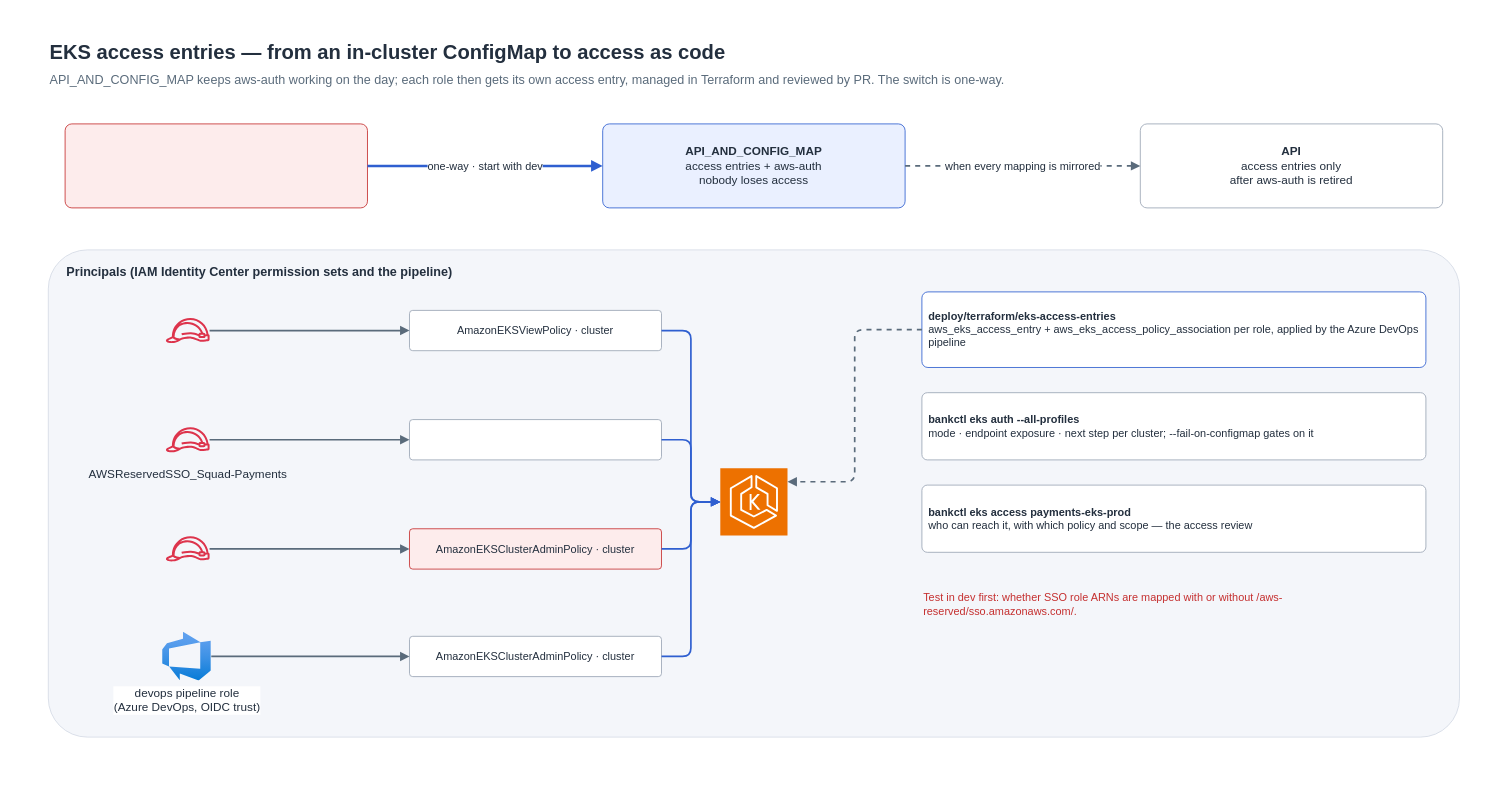
Some shapes in this 1507 by 801 pixel diagram are drawn without their labels. Each missing label, with the centre of its shape:
"AmazonEKSEditPolicy · namespace payments" goes at (x=535, y=439).
"AWSReservedSSO_BreakGlass-Admin" goes at (x=187, y=548).
"AWSReservedSSO_Platform-ReadOnly" goes at (x=187, y=330).
"CONFIG_MAP aws-auth ConfigMap only edits inside the cluster" goes at (x=216, y=165).
"payments-eks-prod" goes at (x=753, y=501).
